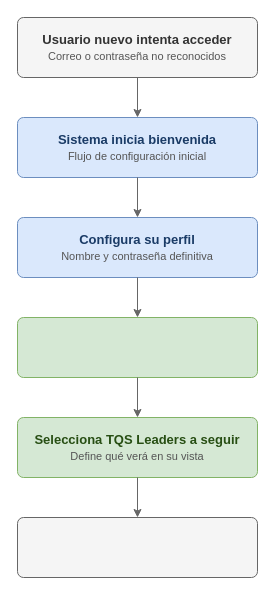
Some shapes in this 275 by 595 pixel diagram are drawn without their labels. Each missing label, with the centre of its shape:
"Agrega sus sistemas SAP Aparecerán en su menú lateral" belongs at (137,347).
"Entra al sistema Accede al Dashboard" belongs at (137,547).
